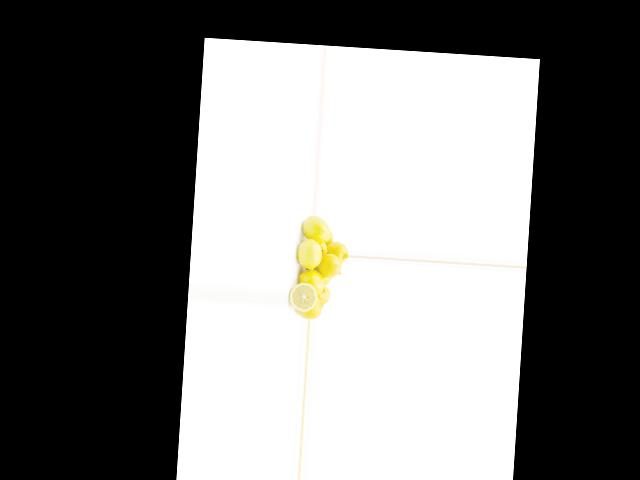lemon: (298, 295, 322, 318)
